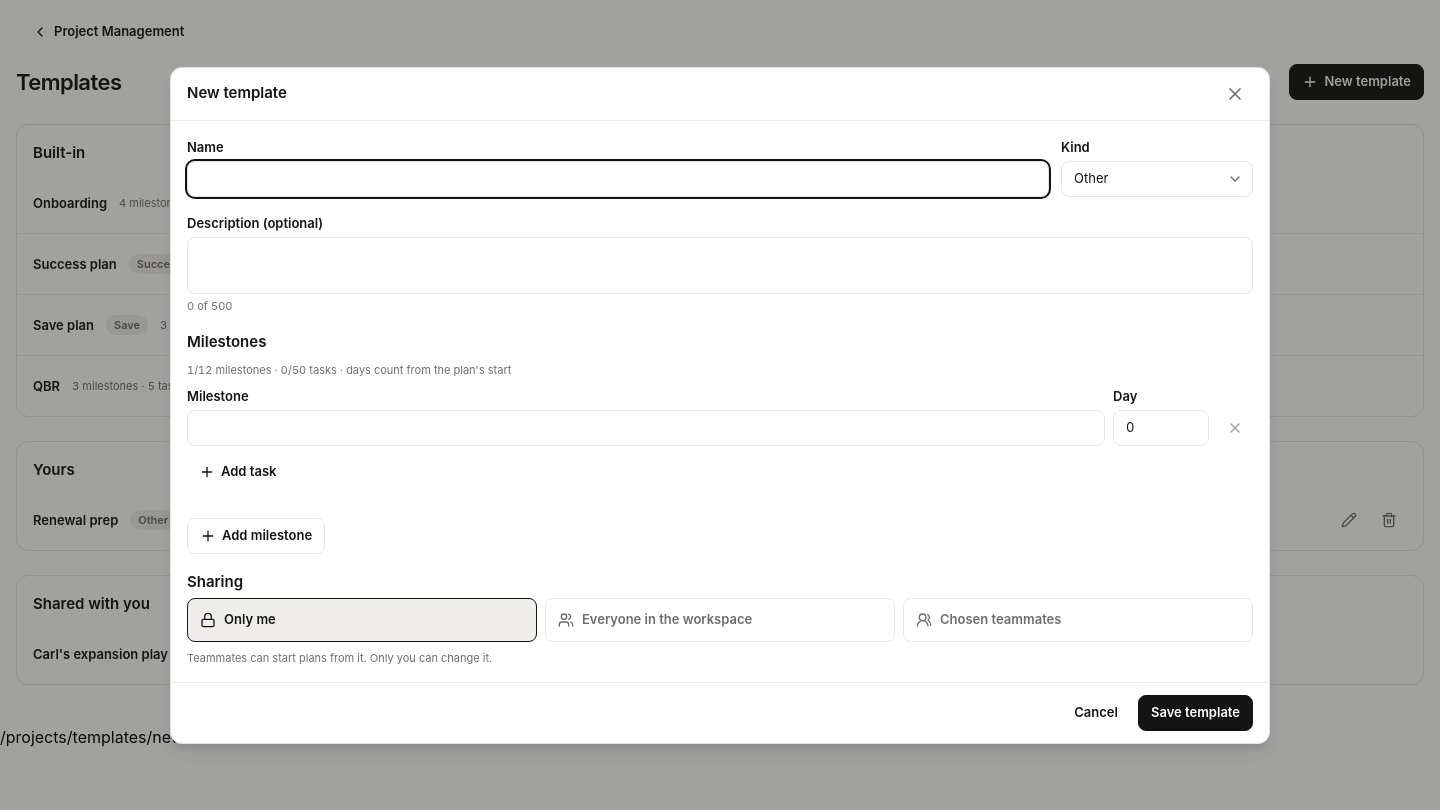
Test: templates (spec §2.4) › makes a new template, counting its milestones and tasks, and lists it
In the field labelled "Name": (618, 178) [187, 160, 1049, 196], type "Escalation"
Select "Save" in the dropdown labelled "Kind": (1157, 178) [1061, 160, 1253, 196]
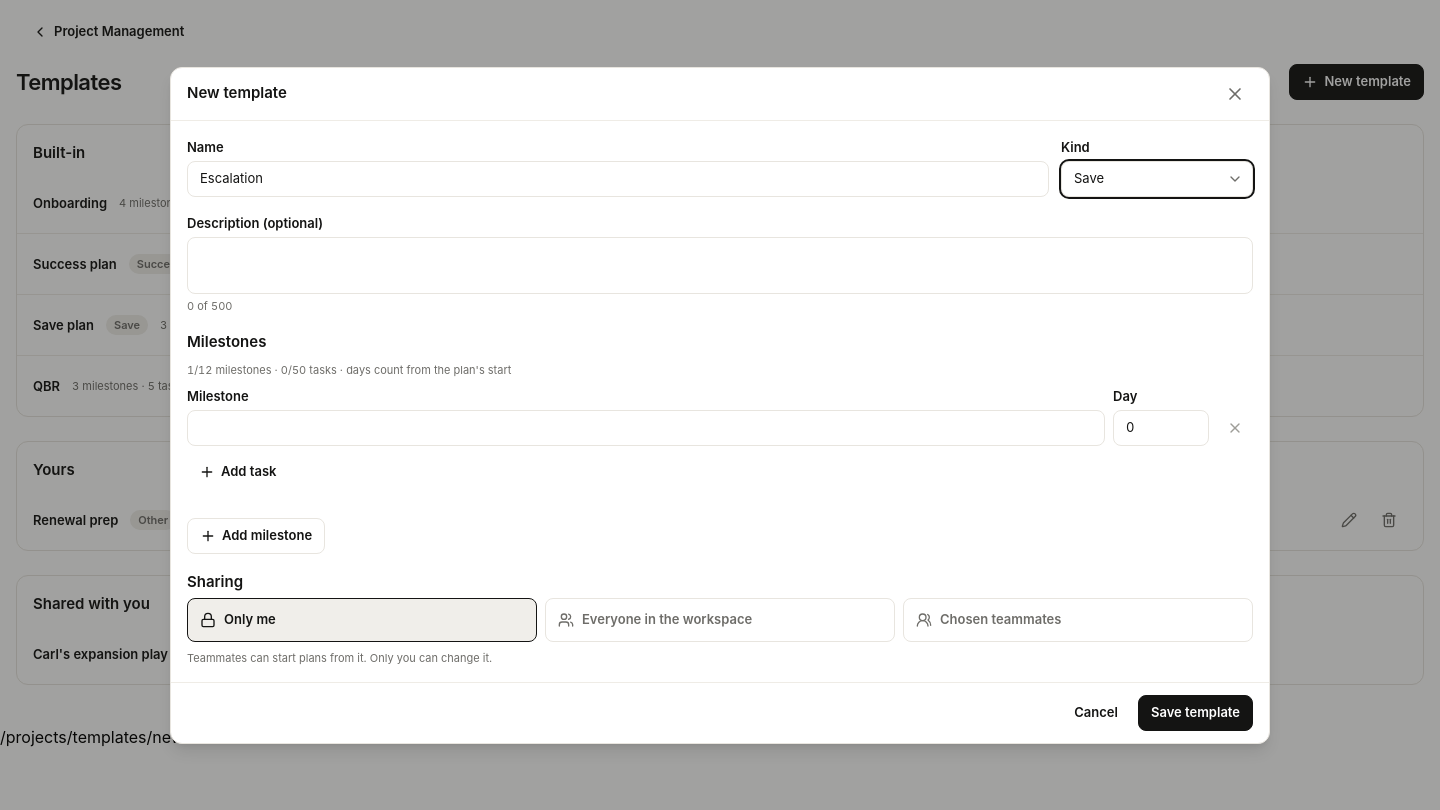
In the field labelled "Milestone": (646, 428) [187, 410, 1105, 446], type "Call the sponsor"
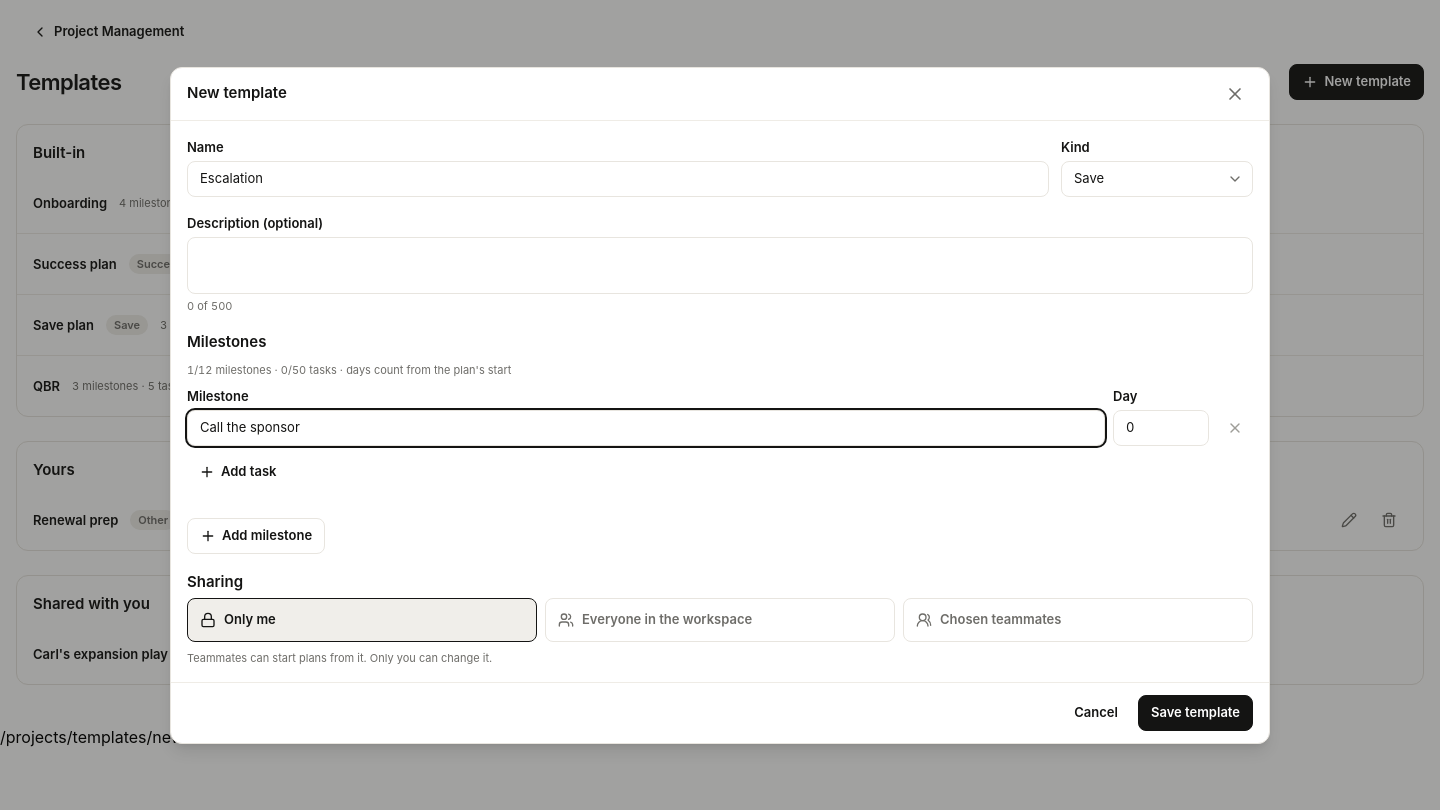
Click the button "Add task": (238, 472) [187, 454, 288, 490]
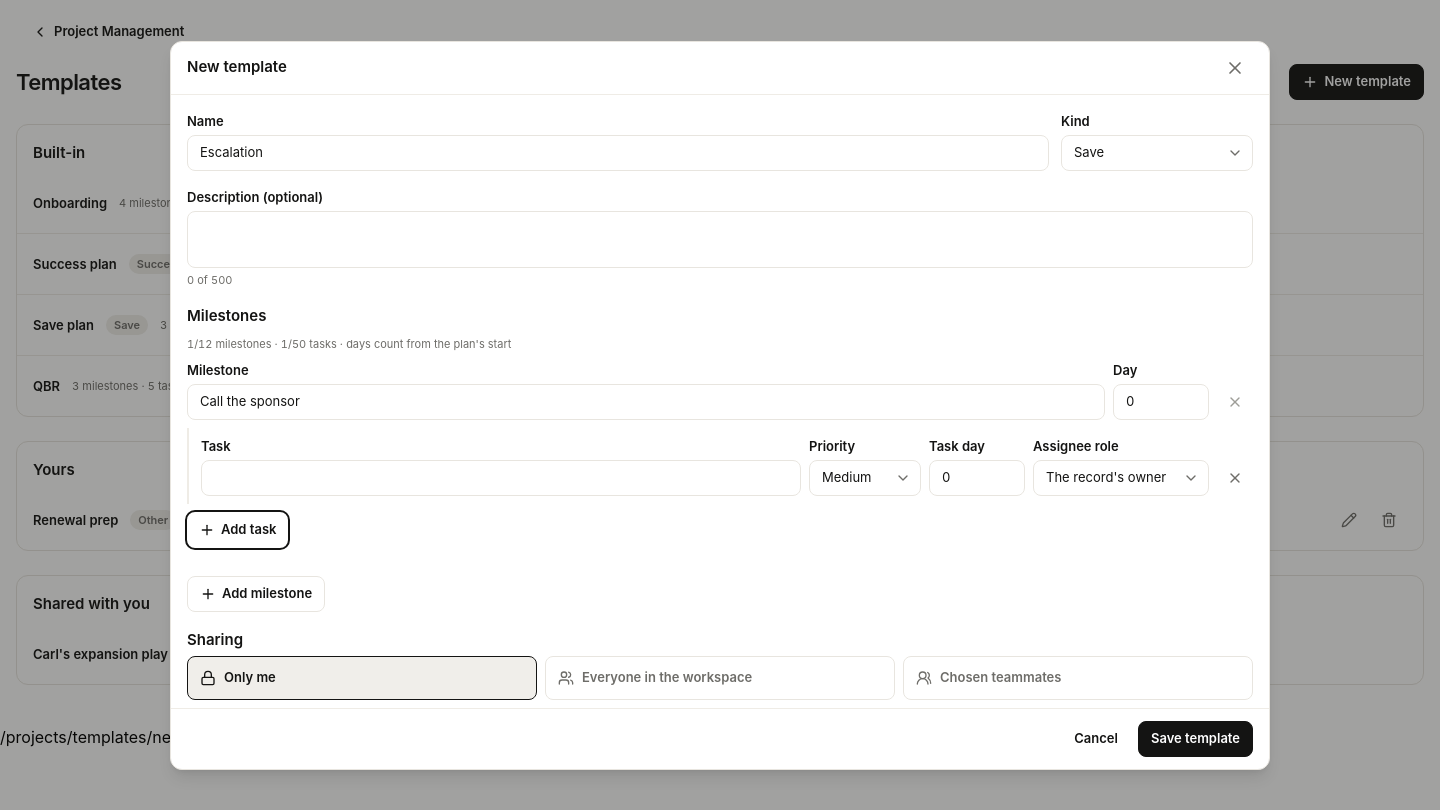
In the field labelled "Task": (501, 478) [201, 460, 801, 496], type "Book the call"
Replace the text in the number field labelled "Task day" with "2": (977, 478) [929, 460, 1025, 496]
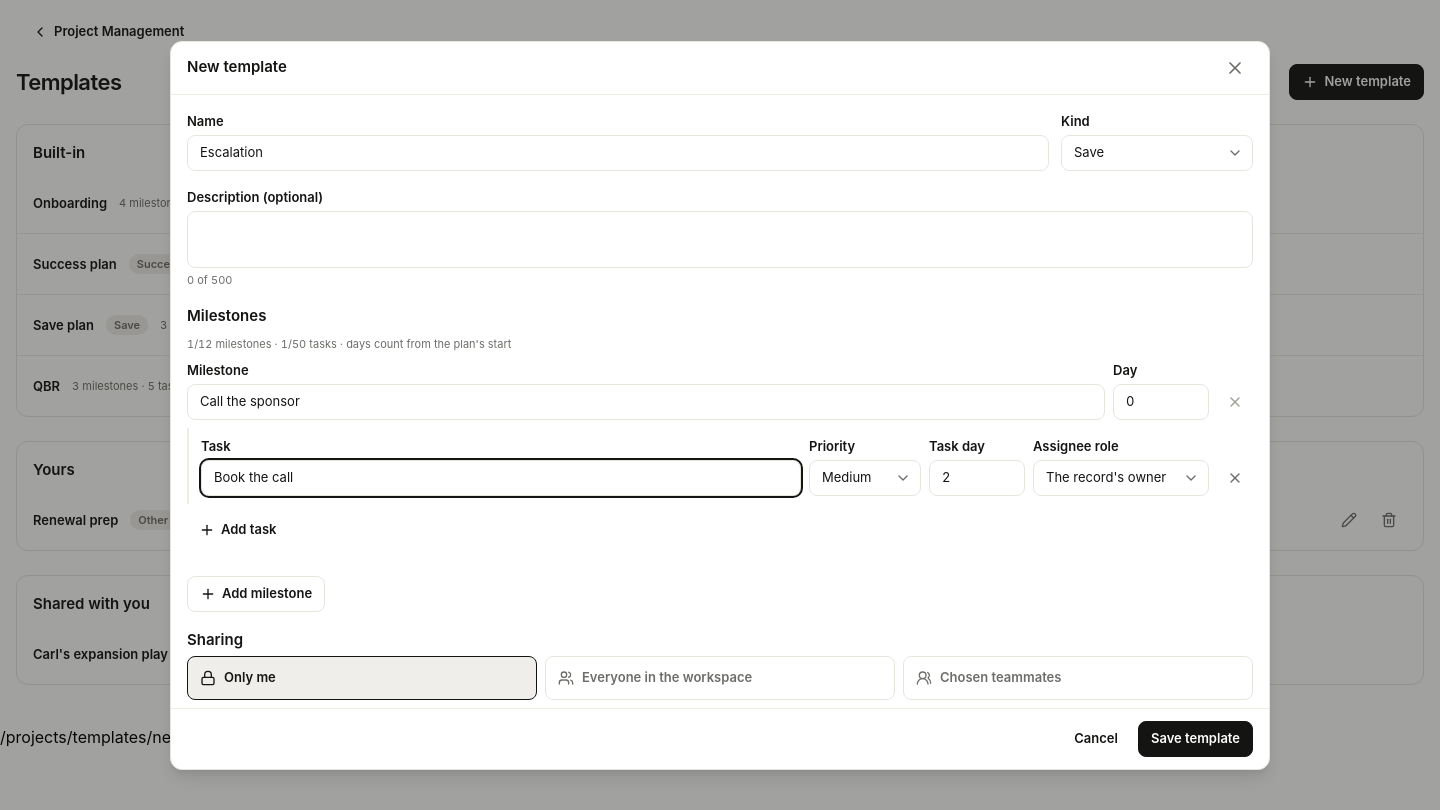
Select "The plan's owner" in the dropdown labelled "Assignee role": (1121, 478) [1033, 460, 1209, 496]
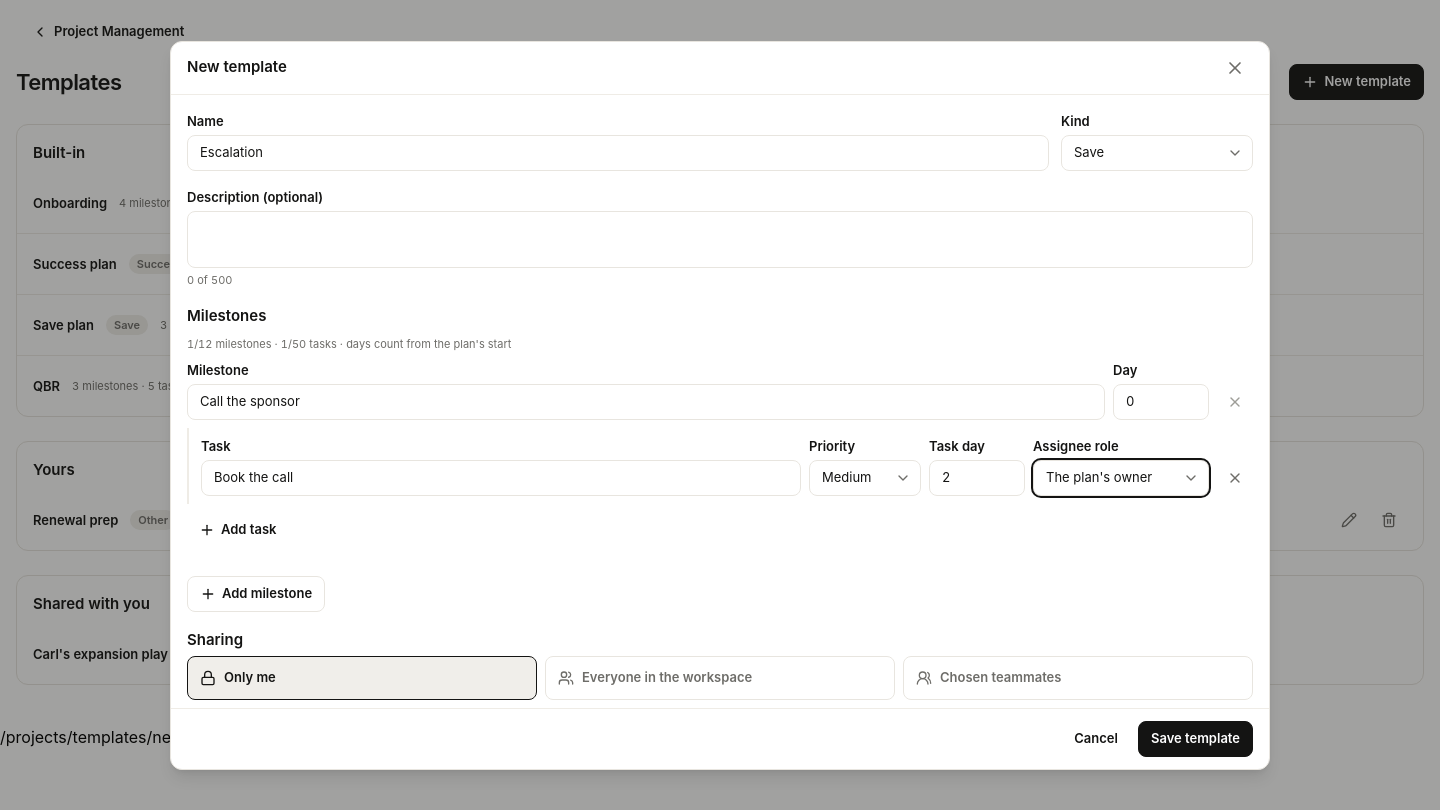
Check: the dialog "New template" shows "1/12 milestones · 1/50 tasks"
Click the button "Save template": (1196, 738) [1138, 720, 1253, 756]
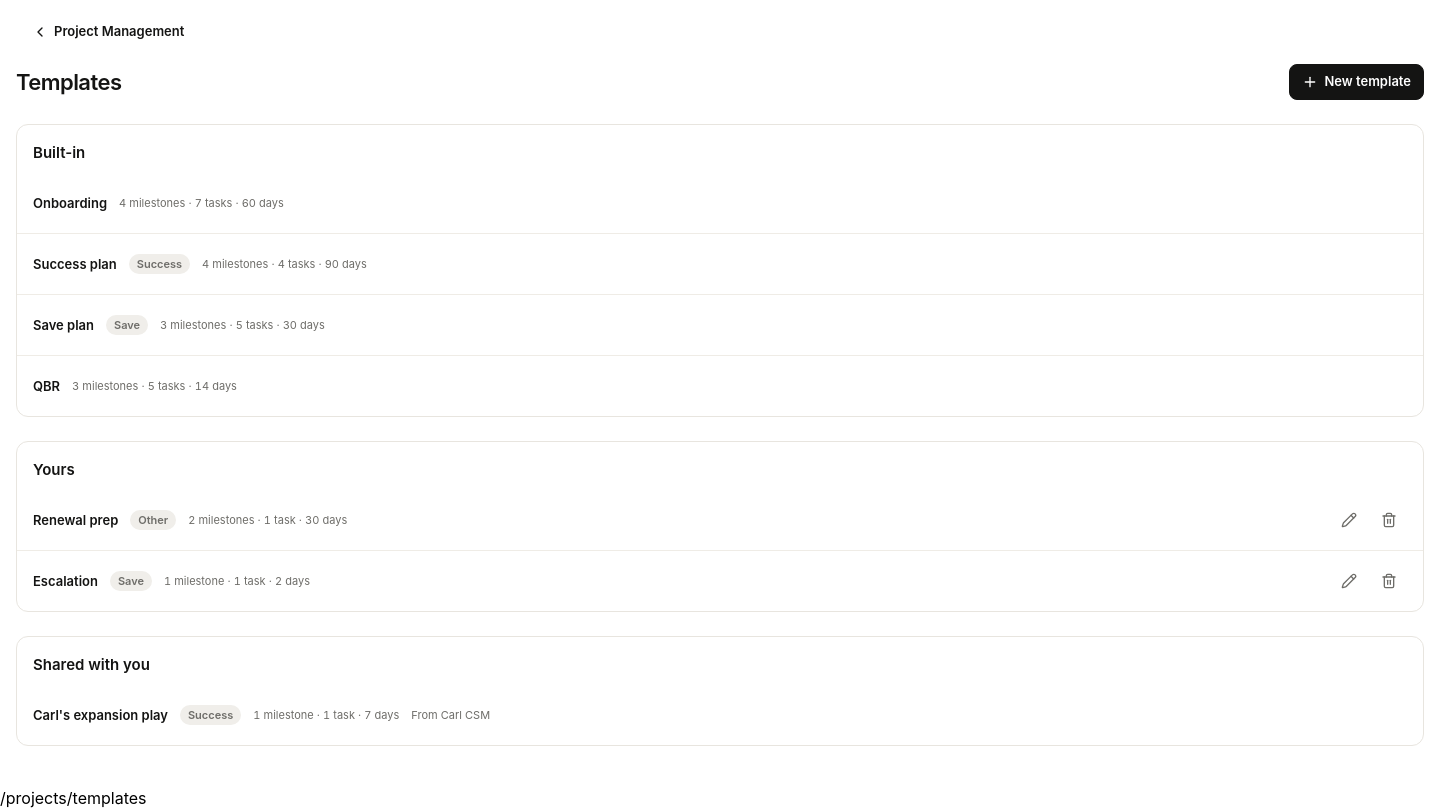
Check: the text with test id "where" reads "/projects/templates", box [0, 788, 146, 808]
